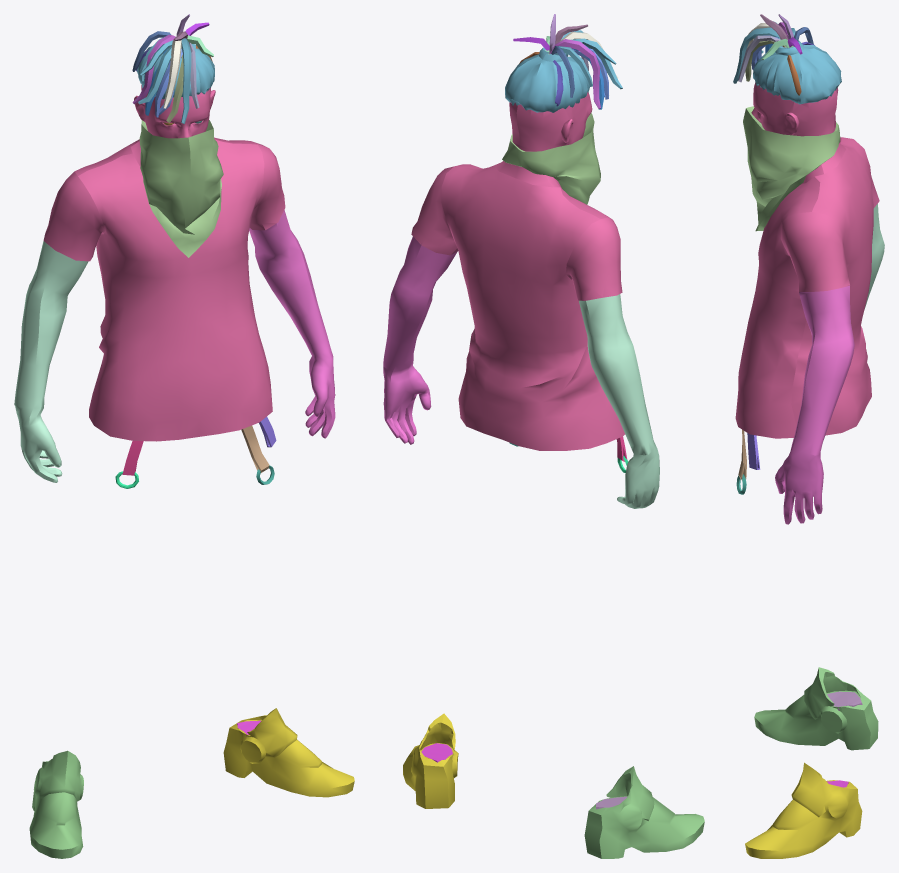
The picture shows the model from 3 angles, left to right: view 1: azimuth 30°, elevation 25°; view 2: azimuth 150°, elevation 25°; view 3: azimuth 270°, elevation 25°; orthographic projection. The views are drawn at different scales.
Visible parts, largest first — view 1: split_parent_8, Object_2.002, Object_5, Object_2.006, split_parent_37, split_parent_4, split_parent_1; view 2: split_parent_8, Object_2.002, Object_2.006, split_parent_4, split_parent_1, Object_5, split_parent_37, split_parent_20; view 3: split_parent_8, Object_2.006, split_parent_37, split_parent_4, Object_5, split_parent_1, Object_2.002, Object_2.001, split_parent_24, Object_6.017.
Part boxes in pixels (x1,y1,x2,y2): split_parent_8: (43, 85, 285, 441); Object_2.002: (14, 241, 88, 482); Object_5: (139, 120, 223, 257); Object_2.006: (249, 210, 335, 438); split_parent_37: (223, 708, 354, 797); split_parent_4: (29, 750, 83, 858); split_parent_1: (136, 37, 214, 123); split_parent_8: (411, 92, 625, 450); Object_2.002: (579, 294, 659, 508); Object_2.006: (383, 236, 457, 444); split_parent_4: (584, 766, 704, 858); split_parent_1: (505, 30, 622, 112); Object_5: (502, 113, 600, 204); split_parent_37: (403, 713, 458, 808); split_parent_20: (549, 39, 600, 108); split_parent_8: (735, 82, 879, 438); Object_2.006: (775, 285, 854, 524); split_parent_37: (745, 762, 862, 858); split_parent_4: (754, 667, 878, 750); Object_5: (743, 106, 840, 231); split_parent_1: (733, 21, 841, 104); Object_2.002: (864, 203, 884, 309); Object_2.001: (827, 691, 862, 710); split_parent_24: (738, 35, 785, 82); Object_6.017: (747, 433, 760, 469).
Size of the model in its own units: 0.3933 by 1 by 0.177.
